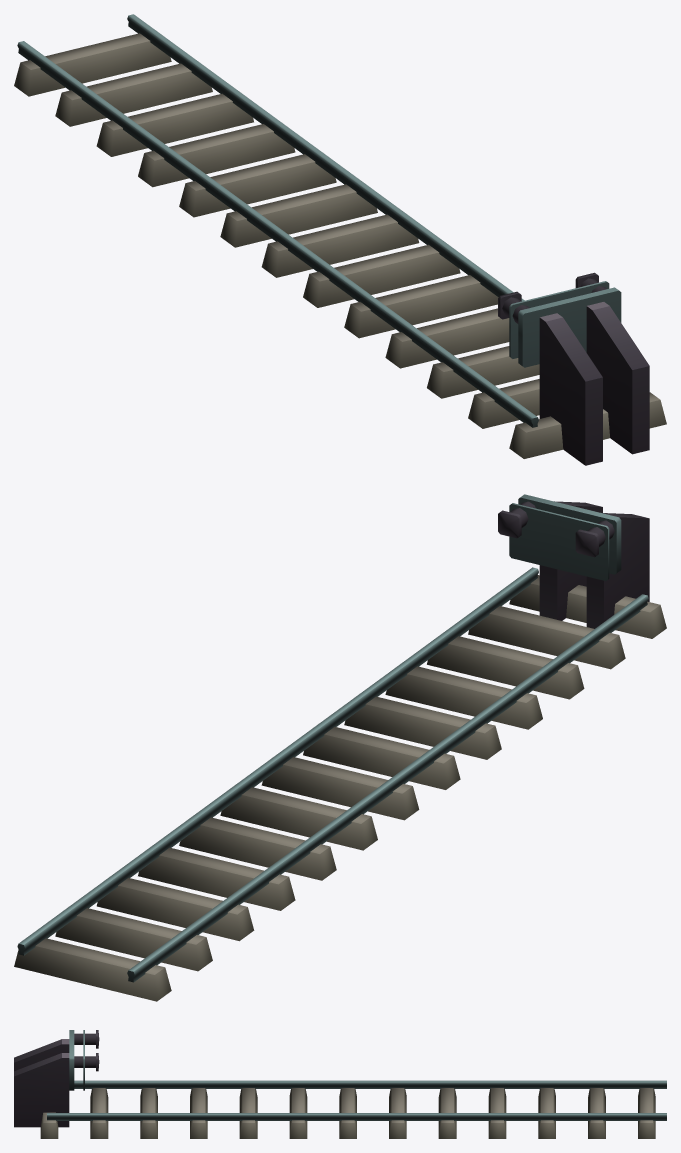
The model's file is Train_Tracks_1E.fbx.
3 renders of one model, top to bottom at view 1: azimuth 30°, elevation 25°; view 2: azimuth 150°, elevation 25°; view 3: azimuth 270°, elevation 25°, orthographic. The views are drawn at different scales.
Parts seen in each view (by area): view 1: Train_Tracks_1E; view 2: Train_Tracks_1E; view 3: Train_Tracks_1E.
Boxes of the visible parts, x1,y1,x2,y2 form: Train_Tracks_1E: (14,14,666,465); Train_Tracks_1E: (14,494,666,1001); Train_Tracks_1E: (14,1030,666,1138).
Size of the model in its own units: 2.8 by 2.29 by 18.37.
